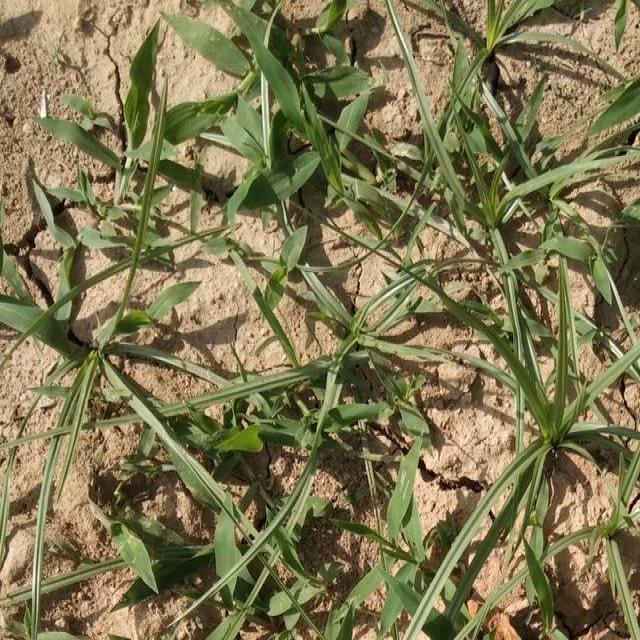weed: (11, 143, 378, 640), (387, 7, 640, 640), (162, 11, 368, 217)
